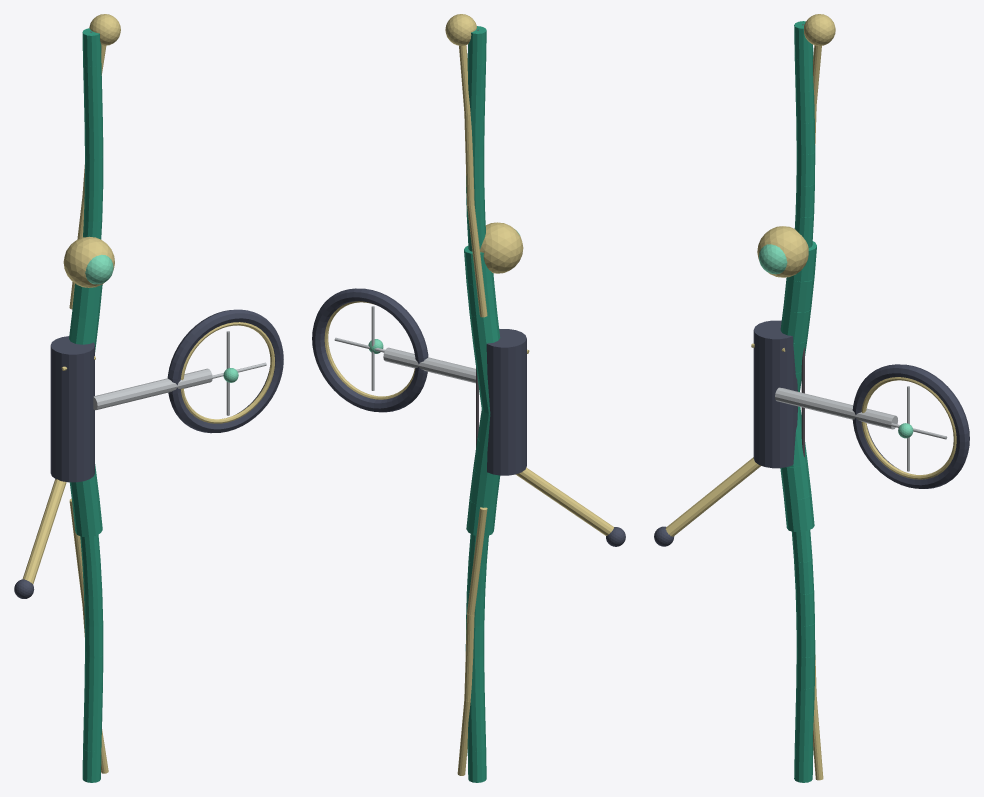
Rendered from arco_dragao_de_esmeralda.glb.
The picture shows the model from 3 angles, left to right: view 1: azimuth 30°, elevation 25°; view 2: azimuth 150°, elevation 25°; view 3: azimuth 330°, elevation 25°; orthographic projection.
Visible parts, largest first — view 1: empunhadura, anel_mira_escuro, braco_da_mira, medalha, estabilizador, anel_mira_metalico, lamina_15, lamina_8, lamina_14, lamina_9, ponteira, lamina_23 (+14 smaller); view 2: empunhadura, anel_mira_escuro, medalha, estabilizador, braco_da_mira, friso_1_0, friso_-1_0, lamina_9, lamina_14, ponteira, friso_1_1, anel_mira_metalico (+9 smaller); view 3: empunhadura, anel_mira_escuro, braco_da_mira, medalha, estabilizador, anel_mira_metalico, lamina_8, lamina_9, lamina_15, ponteira, lamina_14, pedra_casa (+15 smaller).
Part boxes in pixels (x1,y1,x2,y2): empunhadura: [50, 336, 94, 482]; anel_mira_escuro: [167, 309, 283, 433]; braco_da_mira: [93, 368, 212, 410]; medalha: [63, 236, 114, 287]; estabilizador: [22, 479, 66, 584]; anel_mira_metalico: [180, 322, 274, 423]; lamina_15: [72, 283, 102, 318]; lamina_8: [72, 499, 102, 537]; lamina_14: [69, 312, 99, 347]; lamina_9: [69, 469, 99, 506]; ponteira: [89, 14, 120, 45]; lamina_23: [82, 28, 101, 66]; empunhadura: [486, 329, 526, 475]; anel_mira_escuro: [312, 288, 428, 412]; medalha: [480, 222, 523, 273]; estabilizador: [516, 467, 613, 535]; braco_da_mira: [383, 347, 475, 383]; friso_1_0: [467, 204, 487, 317]; friso_-1_0: [467, 507, 487, 615]; lamina_9: [469, 468, 500, 506]; lamina_14: [469, 311, 500, 349]; ponteira: [445, 14, 476, 45]; friso_1_1: [464, 113, 474, 205]; anel_mira_metalico: [324, 301, 415, 399]; empunhadura: [753, 320, 797, 468]; anel_mira_escuro: [852, 364, 969, 488]; braco_da_mira: [775, 387, 897, 429]; medalha: [757, 226, 808, 277]; estabilizador: [665, 457, 761, 536]; anel_mira_metalico: [861, 377, 956, 479]; lamina_8: [783, 494, 814, 532]; lamina_9: [780, 461, 811, 499]; lamina_15: [783, 277, 814, 312]; ponteira: [804, 14, 835, 45]; lamina_14: [780, 305, 811, 343]; pedra_casa: [758, 244, 787, 274].
Size of the model in its own units: 1.23 by 3.09 by 0.366.
